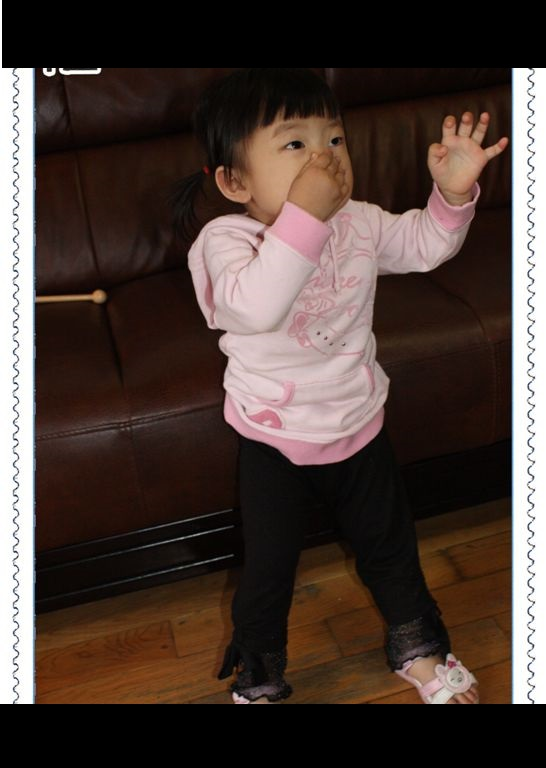face: (251, 88, 354, 223)
